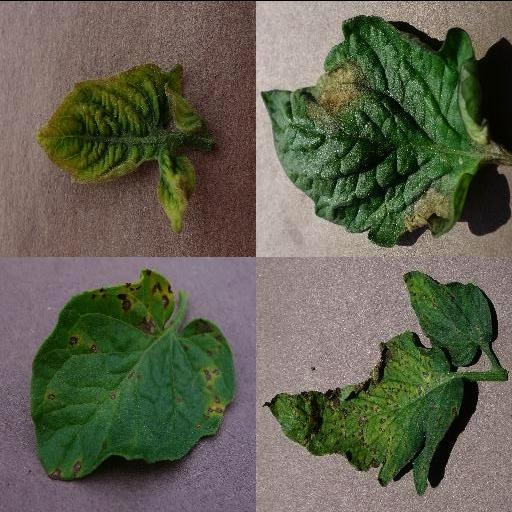Late Blight: (259, 13, 491, 247)
Septoria: (30, 268, 242, 478), (262, 331, 464, 497)
Yellow Leaf Curl Virus: (37, 60, 205, 230)
